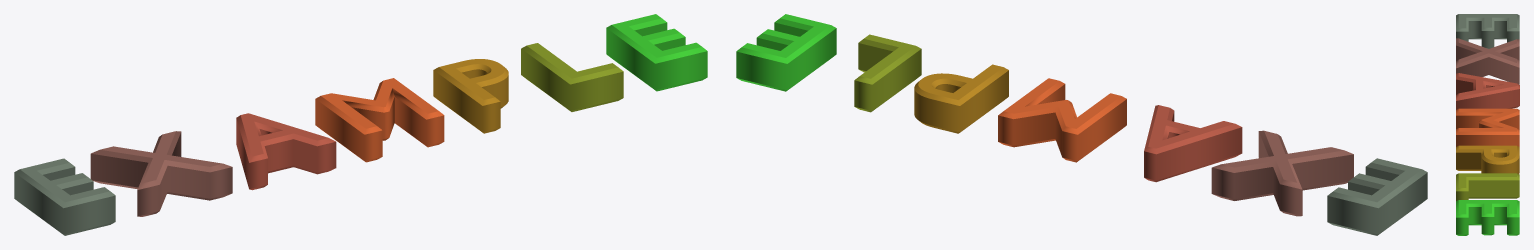
File: example.obj
The picture shows the model from 3 angles, left to right: view 1: azimuth 30°, elevation 25°; view 2: azimuth 150°, elevation 25°; view 3: azimuth 270°, elevation 25°; orthographic projection. The views are drawn at different scales.
Parts seen in each view (by area): view 1: Example; view 2: Example; view 3: Example.
Part boxes in pixels (box(x1,y1,x2,y2)): Example: box(14, 14, 707, 235); Example: box(736, 14, 1427, 235); Example: box(1456, 14, 1519, 235).
Size of the model in its own units: 5.61 by 0.28 by 0.746.
Materials: 1 (1 with a texture image).
